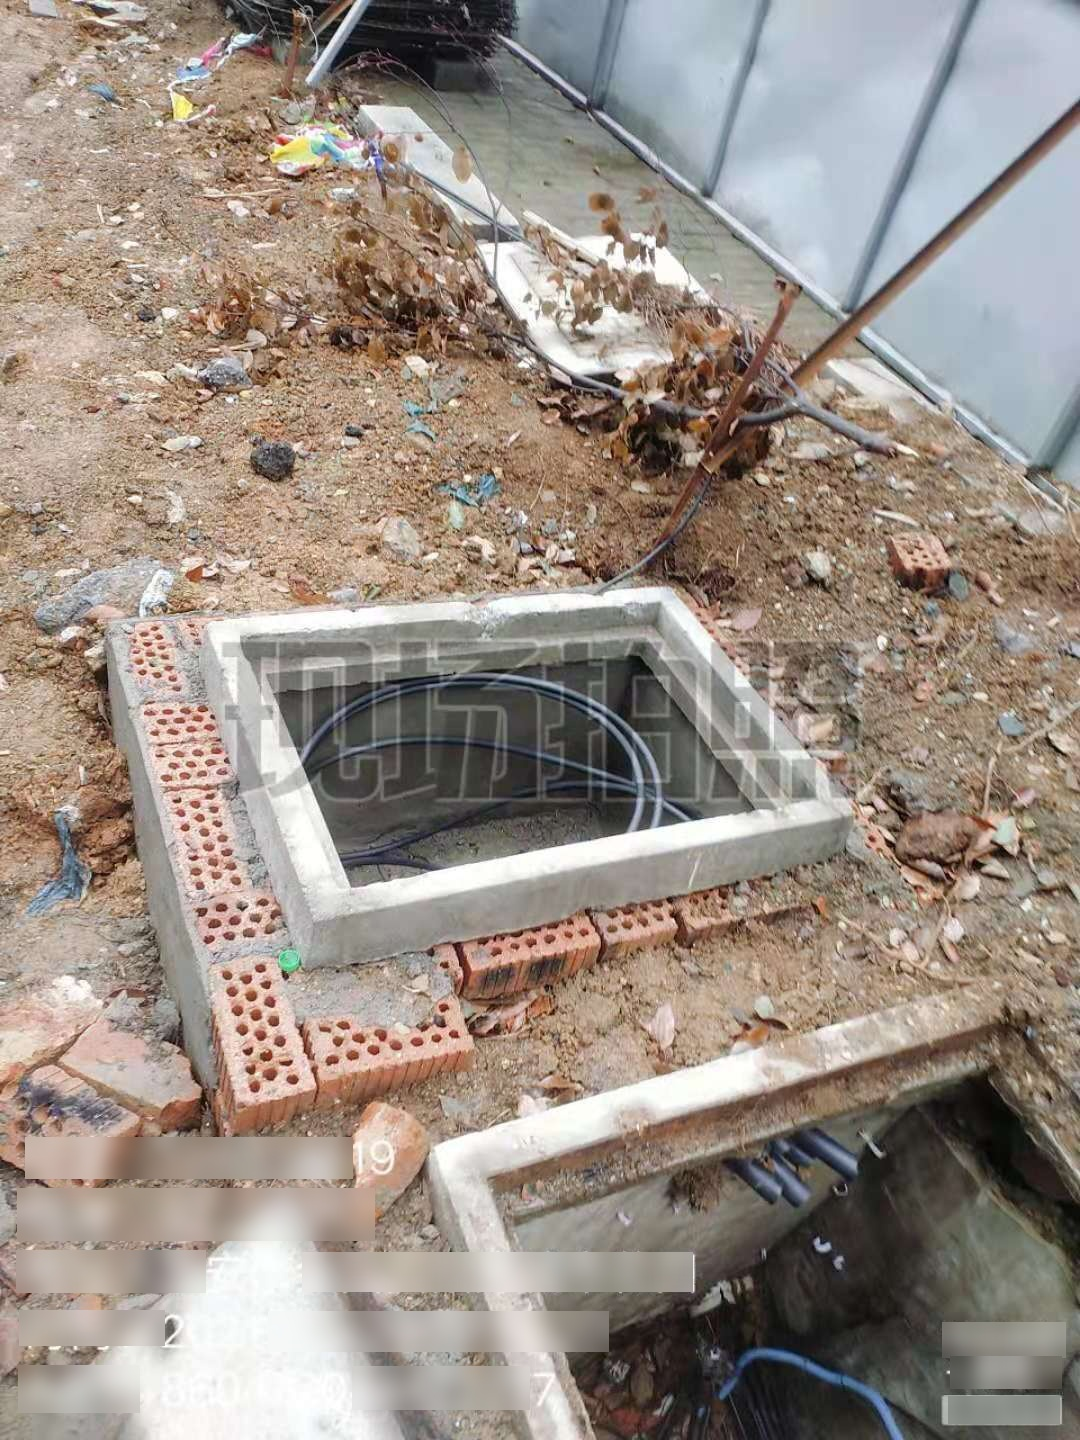well: (432, 1001, 1079, 1434), (213, 586, 838, 920)
